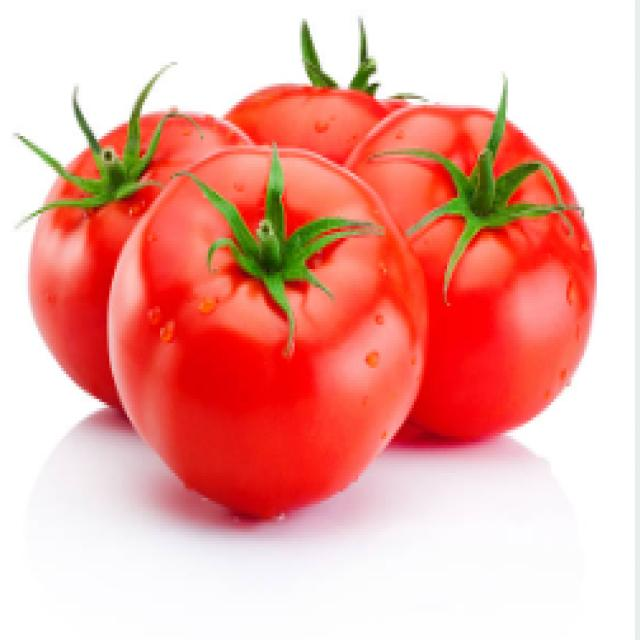Tomato: (126, 128, 428, 552), (353, 83, 600, 456)
